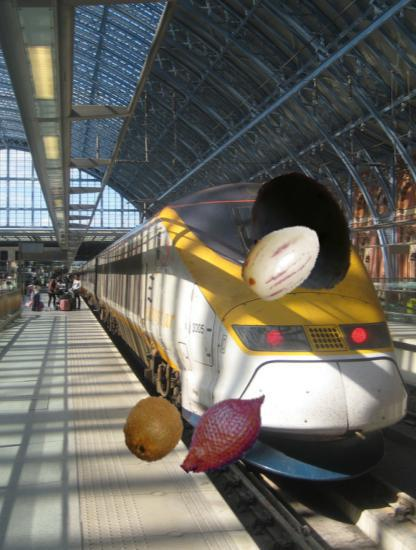Kiwi: (119, 395, 188, 464)
Pepino: (236, 215, 325, 304)
Plum: (239, 172, 365, 298)
Salak: (171, 379, 281, 489)
